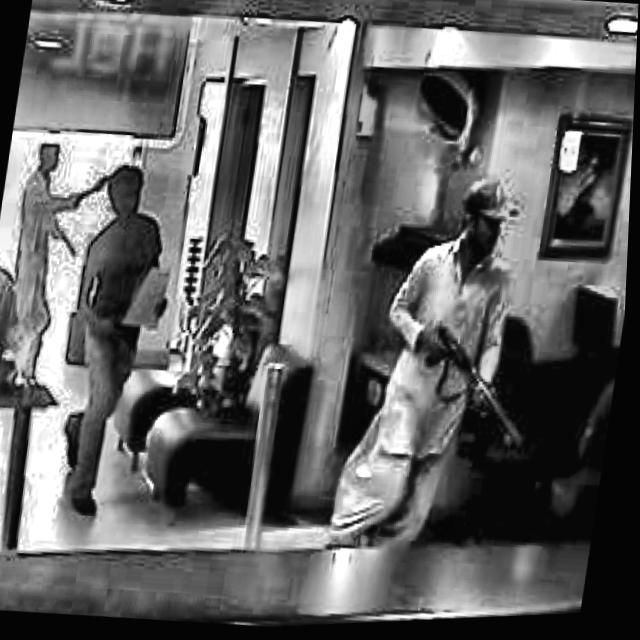robbery: (333, 170, 559, 565), (0, 133, 126, 388)
